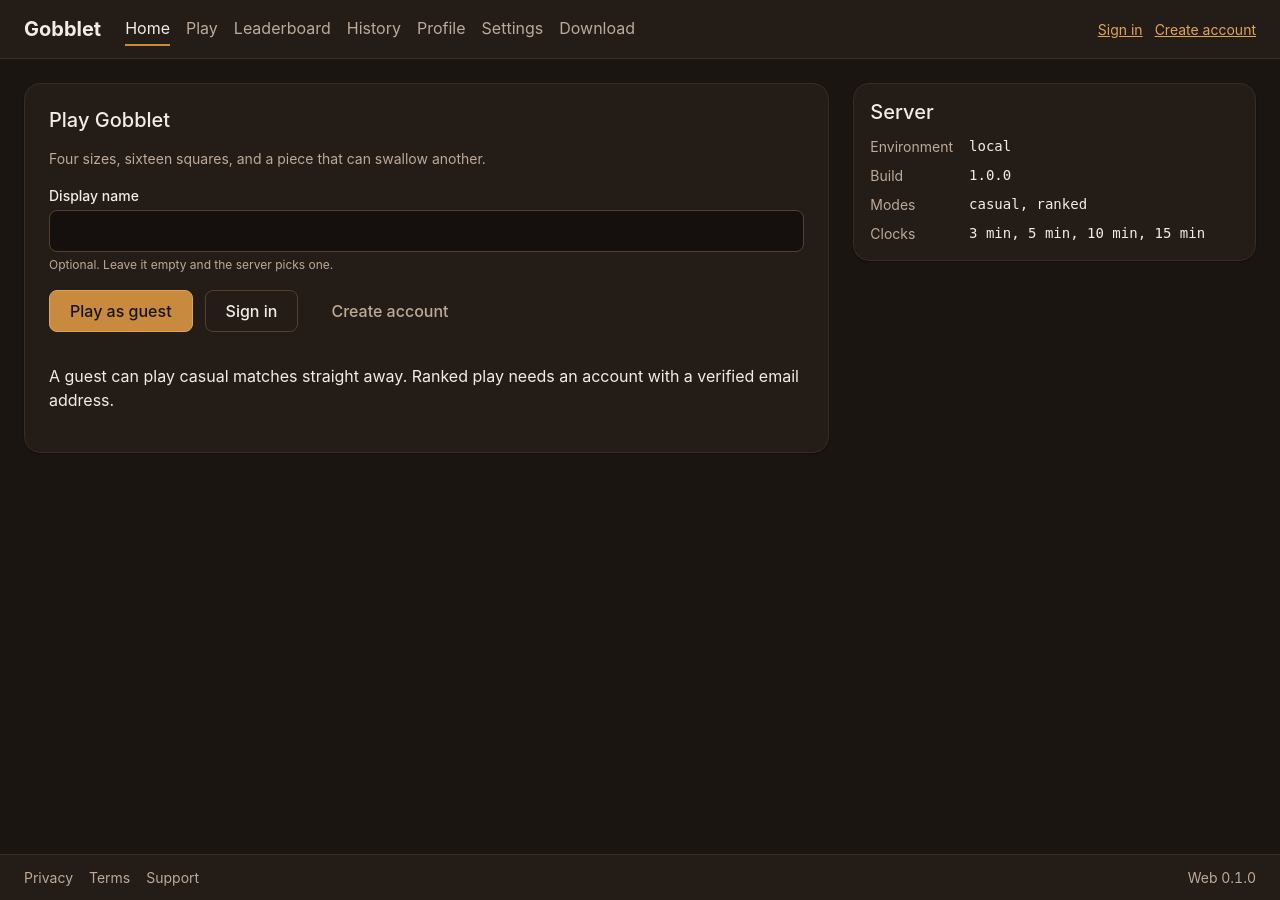
Test: home screen › carries the name the visitor chose for the guest session
Type "  Ada  " into the field with test id "guest-name" at (427, 231), box x1=49 y1=210 x2=804 y2=252
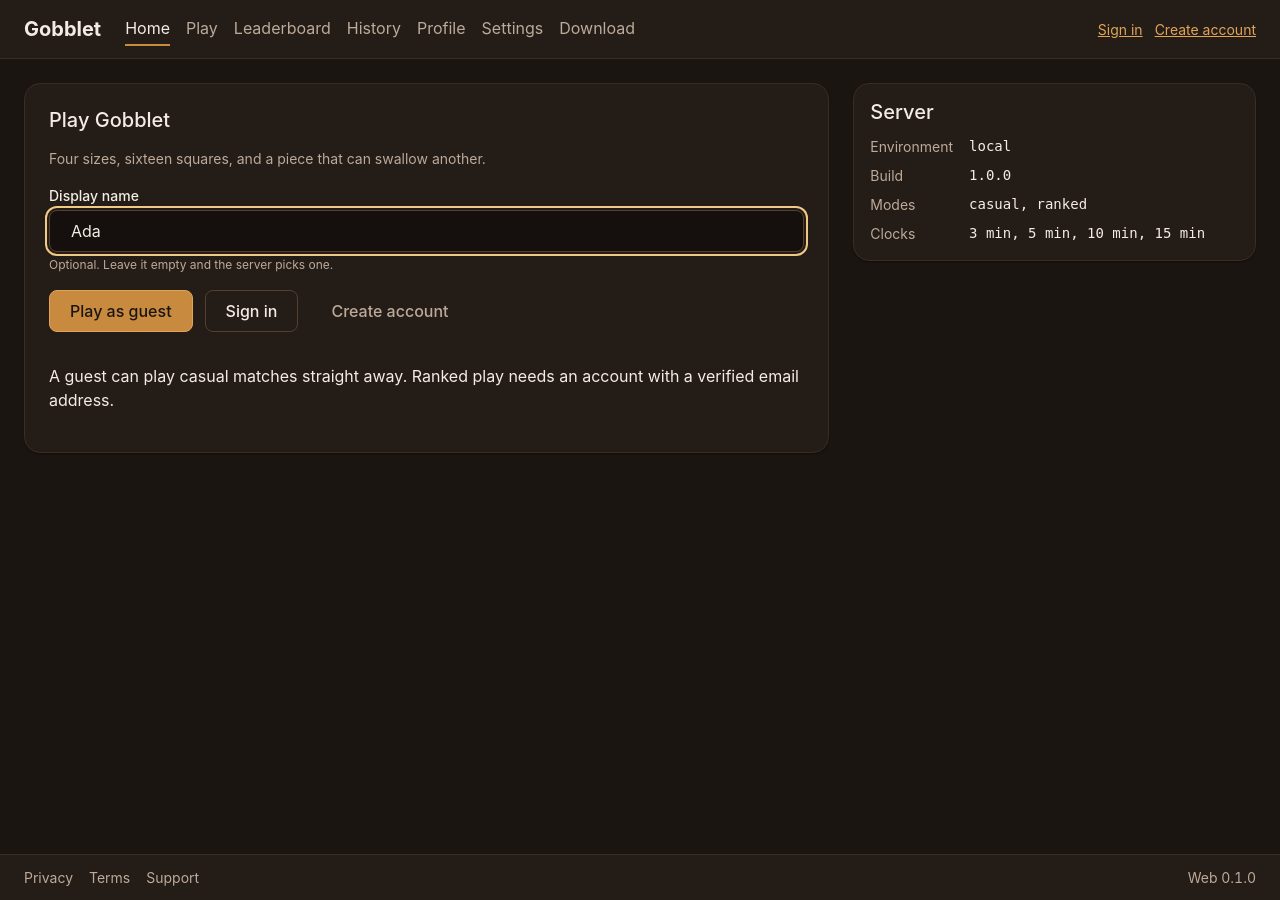
Click the button with test id "play-as-guest" at (121, 311), box x1=49 y1=290 x2=193 y2=332
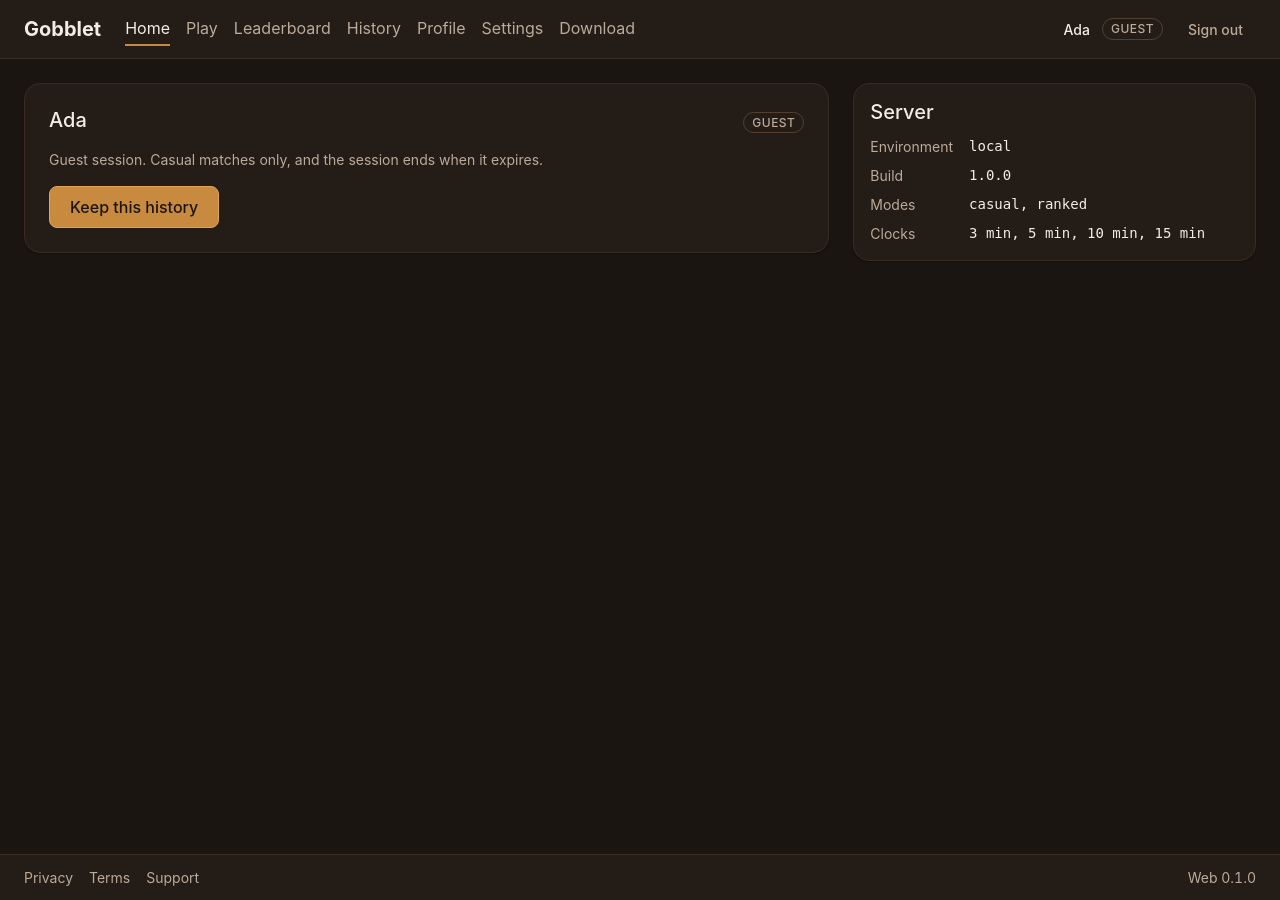
Check: the text with test id "identity-name" reads "Ada", box x1=1064 y1=20 x2=1090 y2=38
